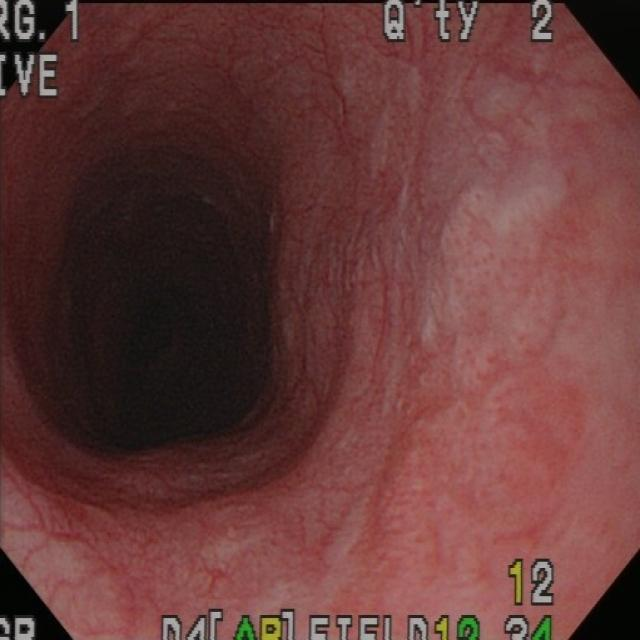A: (53, 455, 326, 586), (257, 139, 377, 431), (393, 389, 546, 558), (419, 153, 546, 347)
E: (70, 176, 288, 458)
S: (160, 608, 483, 640), (383, 3, 558, 45), (3, 3, 83, 45), (3, 50, 63, 101), (507, 558, 556, 608), (506, 614, 556, 640), (2, 614, 39, 640)
